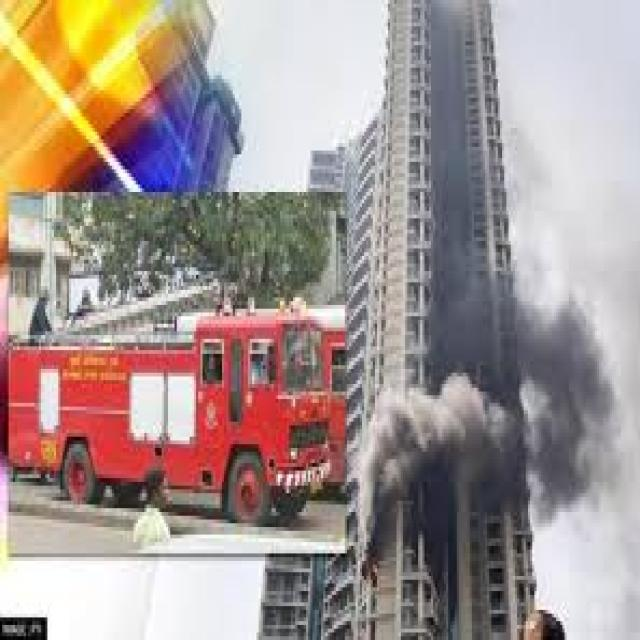Fire_brigade: (8, 302, 344, 554)
